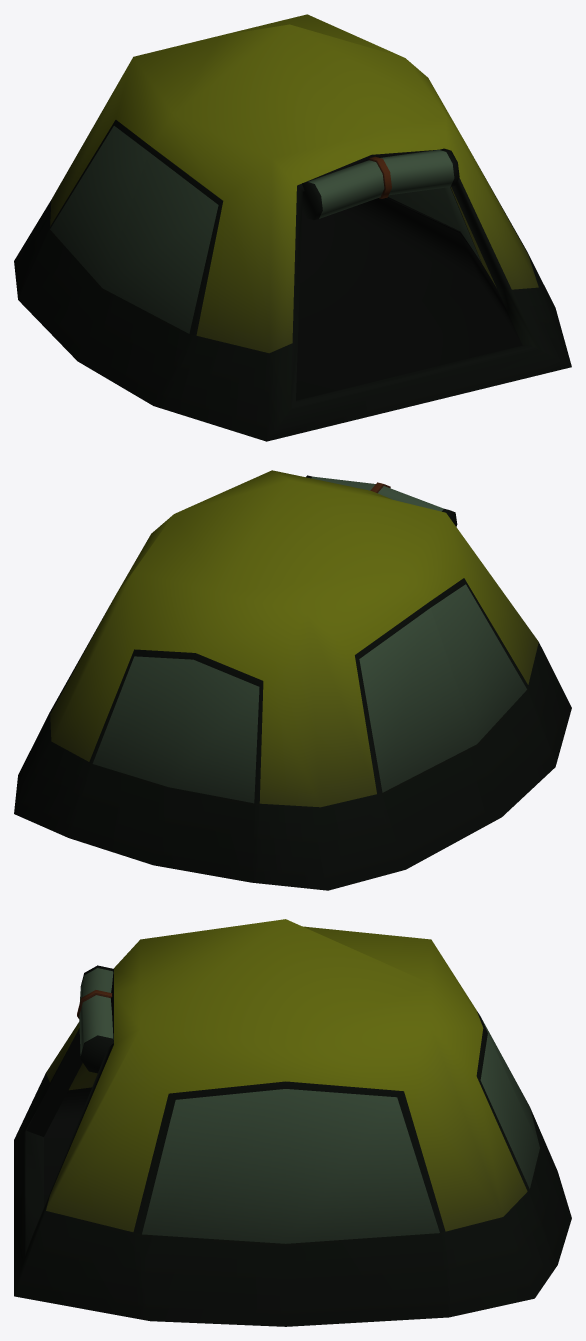
The model's file is Tent_01.fbx.
3 renders of one model, top to bottom at view 1: azimuth 30°, elevation 25°; view 2: azimuth 150°, elevation 25°; view 3: azimuth 270°, elevation 25°, orthographic. The views are drawn at different scales.
Parts seen in each view (by area): view 1: Tent; view 2: Tent; view 3: Tent.
Part boxes in pixels (box(x1,y1,x2,y2)): Tent: box(14, 14, 571, 441); Tent: box(14, 470, 571, 890); Tent: box(14, 919, 571, 1326).
Bounding box in the file's own units: 211 × 135 × 229.
